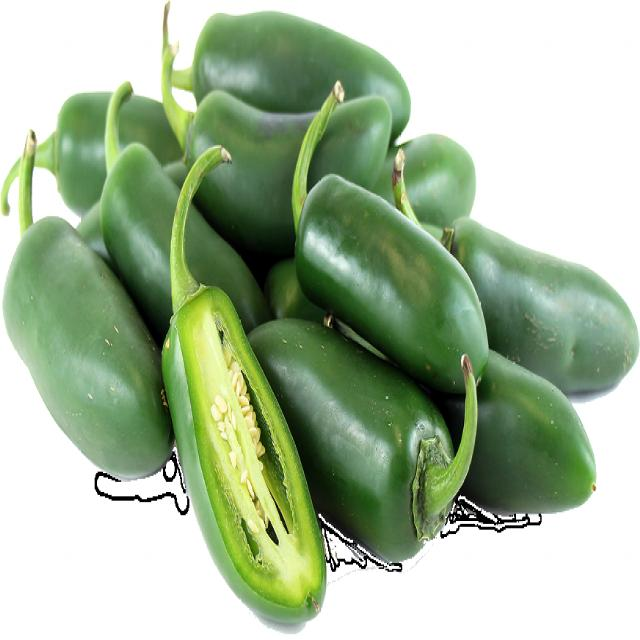aji: (9, 24, 615, 626)
